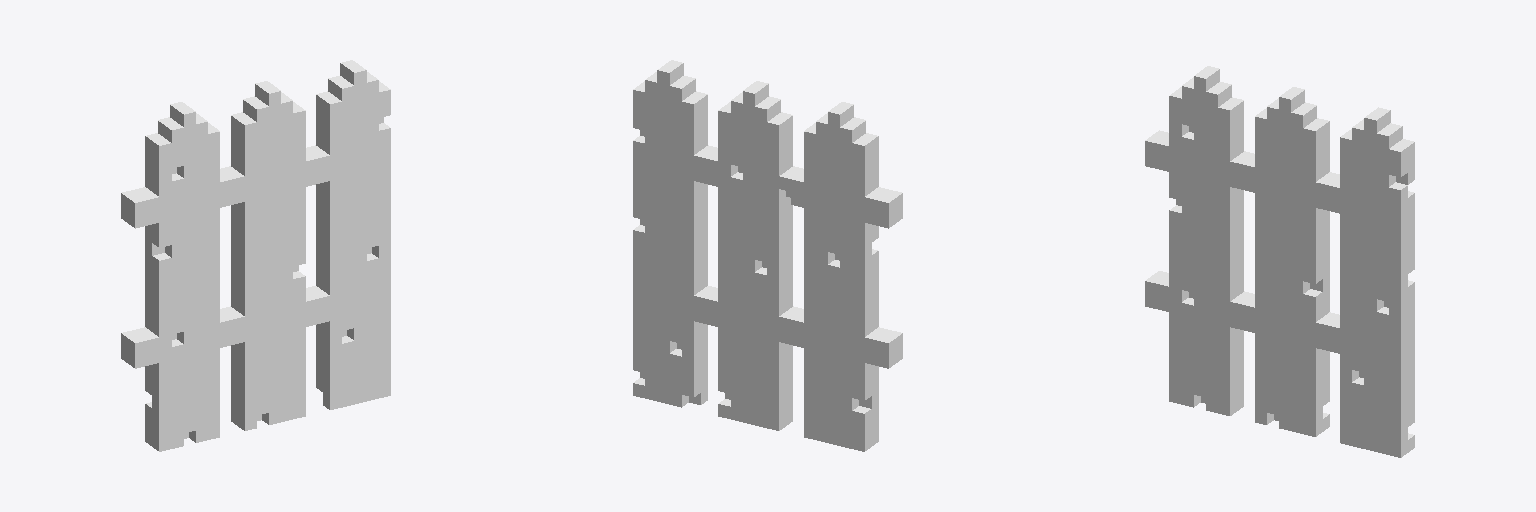
Rendered from wood_fence_001.obj.
3 renders of one model, left to right at view 1: azimuth 30°, elevation 25°; view 2: azimuth 150°, elevation 25°; view 3: azimuth 330°, elevation 25°, orthographic.
Parts seen in each view (by area): view 1: object 1; view 2: object 1; view 3: object 1.
Boxes of the visible parts, <box> form: object 1: <box>121,60,390,451</box>; object 1: <box>633,60,902,451</box>; object 1: <box>1145,66,1414,457</box>.
Size of the model in its own units: 2.1 by 2.6 by 0.2.